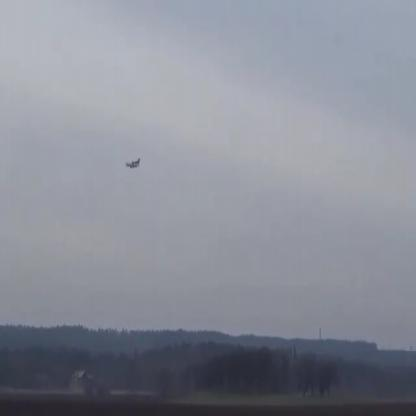CIV_Plane: (125, 158, 140, 170)
